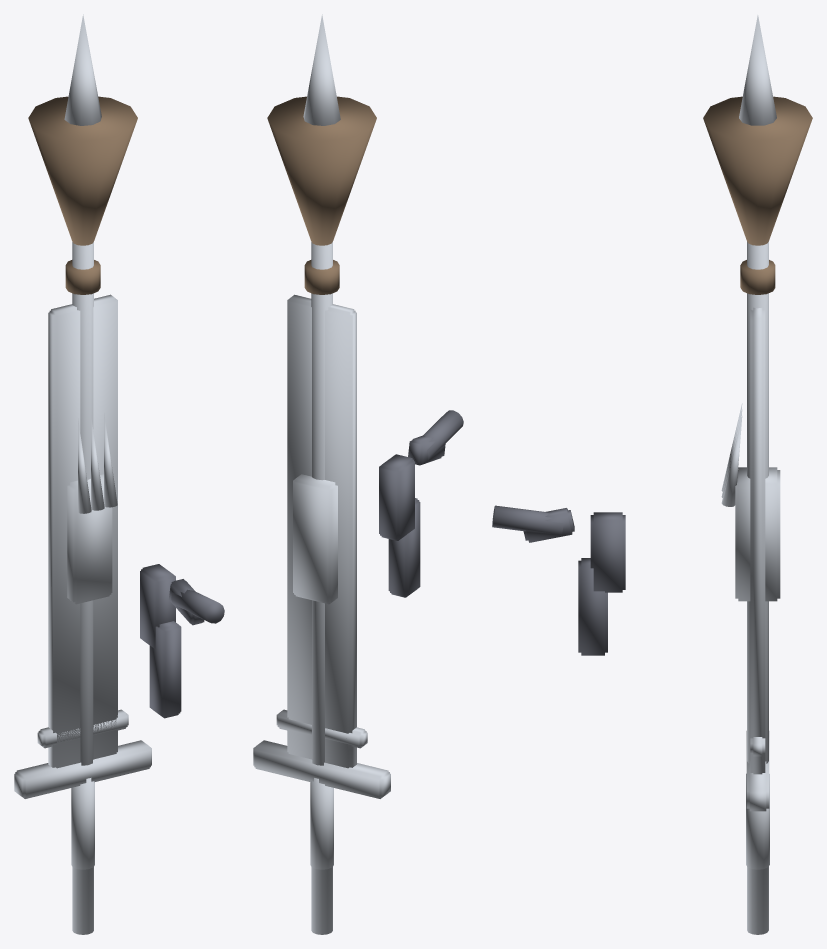
The model's file is weapons.glb.
3 renders of one model, left to right at view 1: azimuth 30°, elevation 25°; view 2: azimuth 150°, elevation 25°; view 3: azimuth 270°, elevation 25°, orthographic.
Visible parts, largest first — view 1: W_Greatsword, W_Broom, W_Spear, W_Claw, W_Gun, W_Sword; view 2: W_Greatsword, W_Broom, W_Spear, W_Gun, W_Claw, W_Sword; view 3: W_Broom, W_Greatsword, W_Gun, W_Spear, W_Claw.
Part boxes in pixels (x1,y1,x2,y2): W_Greatsword: (14,294,151,869); W_Broom: (28,96,137,294); W_Spear: (64,14,101,934); W_Claw: (67,413,117,604); W_Gun: (140,564,224,718); W_Sword: (37,709,128,748); W_Greatsword: (253,294,390,869); W_Broom: (267,96,376,294); W_Spear: (303,14,340,934); W_Gun: (379,410,463,597); W_Claw: (293,474,337,604); W_Sword: (276,709,367,748); W_Broom: (703,96,812,294); W_Greatsword: (746,307,769,869); W_Gun: (492,505,625,655); W_Spear: (739,15,776,934); W_Claw: (721,403,780,601).
Size of the model in its own units: 0.3 by 2.02 by 0.6424.
